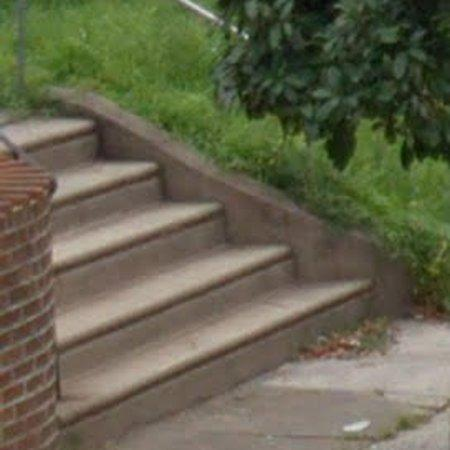stairs: (0, 119, 372, 450)
